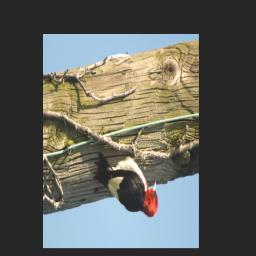Woodpecker: (92, 137, 159, 221)
